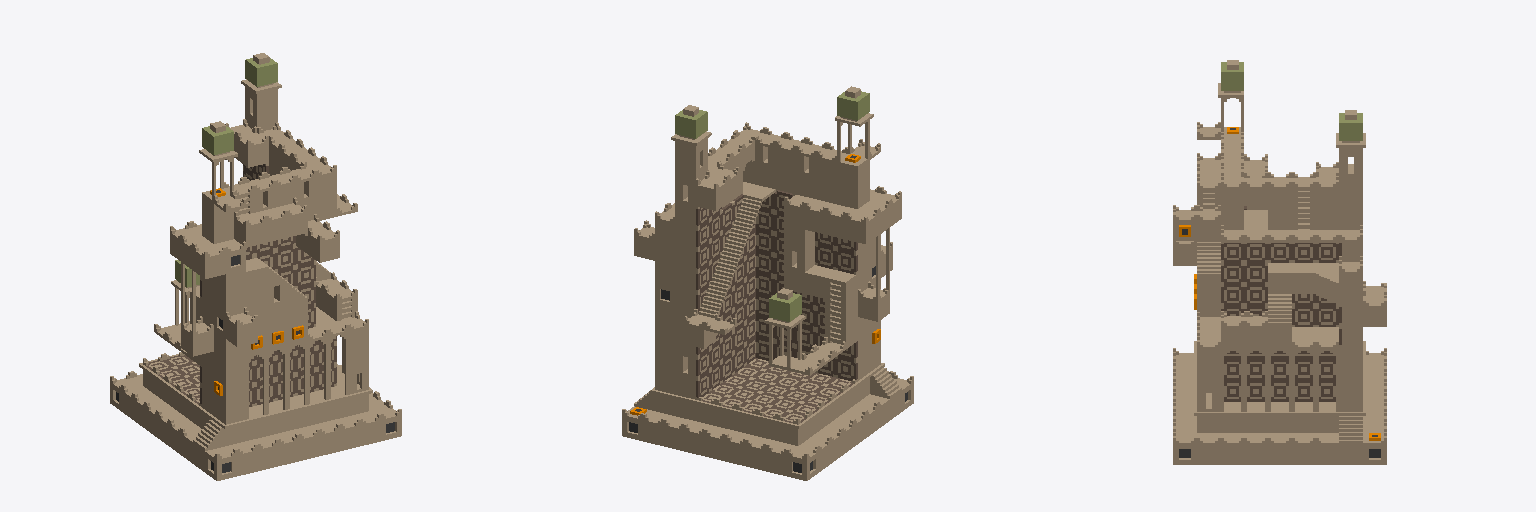
3 views of the same model, side by side, from view 1: azimuth 30°, elevation 25°; view 2: azimuth 150°, elevation 25°; view 3: azimuth 270°, elevation 25° (orthographic).
Parts seen in each view (by area): view 1: object 1; view 2: object 1; view 3: object 1.
Part boxes in pixels (left/top/right/bottom): object 1: left=110, top=53, right=401, bottom=480; object 1: left=622, top=86, right=913, bottom=480; object 1: left=1173, top=60, right=1386, bottom=464.
Size of the model in its own units: 7.2 by 12.2 by 7.2.
Materials: 1 (1 with a texture image).